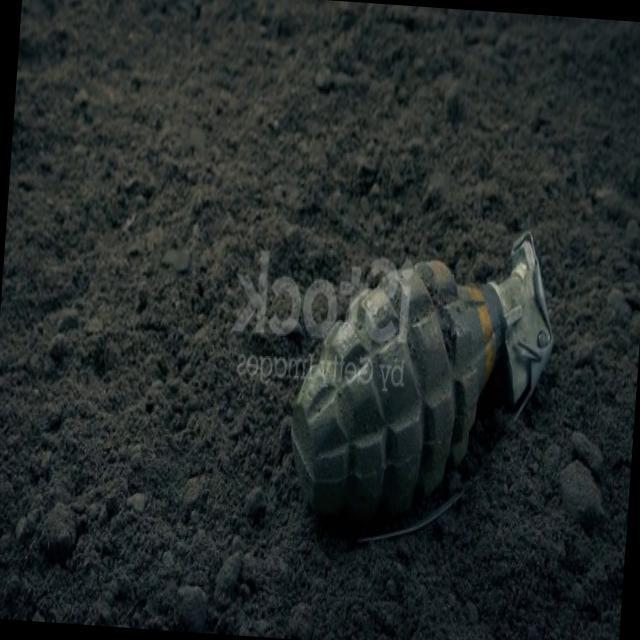grenade: (284, 220, 564, 564)
